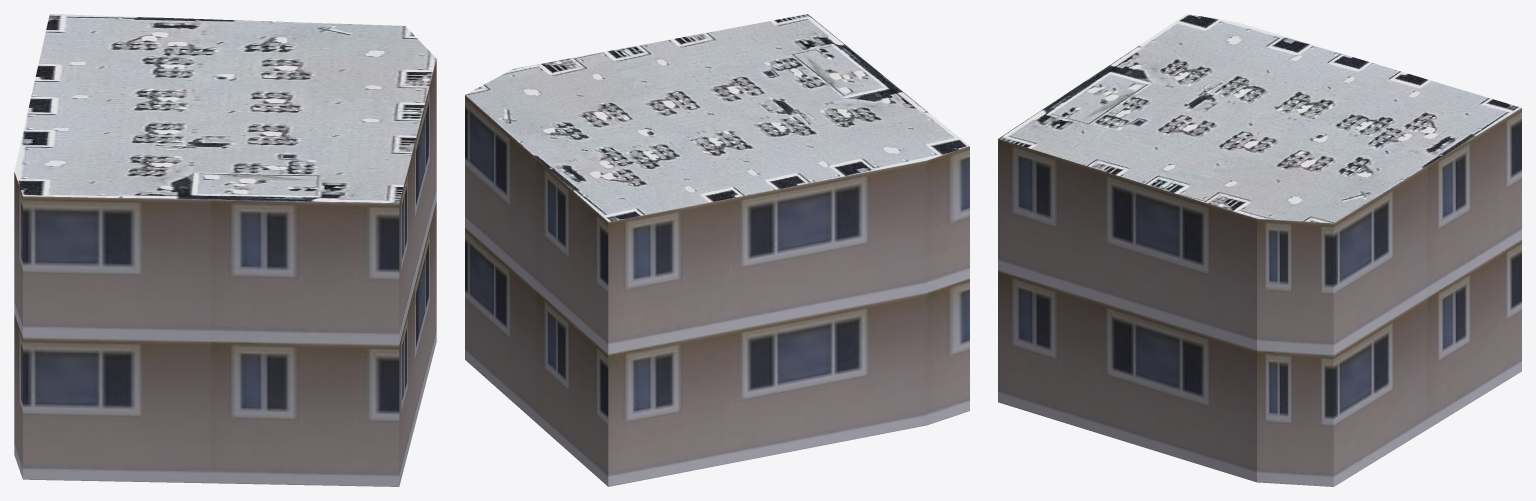
File: ResTex__4076.fbx
3 renders of one model, left to right at view 1: azimuth 30°, elevation 25°; view 2: azimuth 150°, elevation 25°; view 3: azimuth 270°, elevation 25°, orthographic. The views are drawn at different scales.
Parts seen in each view (by area): view 1: CityEngineMaterial_21_m, CityEngineMaterial_8_m; view 2: CityEngineMaterial_21_m, CityEngineMaterial_8_m; view 3: CityEngineMaterial_21_m, CityEngineMaterial_8_m.
Boxes of the visible parts, box(x1,y1,x2,y2) form: CityEngineMaterial_21_m: box(14, 59, 436, 486); CityEngineMaterial_8_m: box(14, 14, 436, 203); CityEngineMaterial_21_m: box(465, 95, 969, 486); CityEngineMaterial_8_m: box(465, 14, 969, 221); CityEngineMaterial_21_m: box(998, 108, 1521, 486); CityEngineMaterial_8_m: box(998, 14, 1521, 223).
Bounding box in the file's own units: 10.22 × 6 × 10.8.
2 materials, 2 textured.
